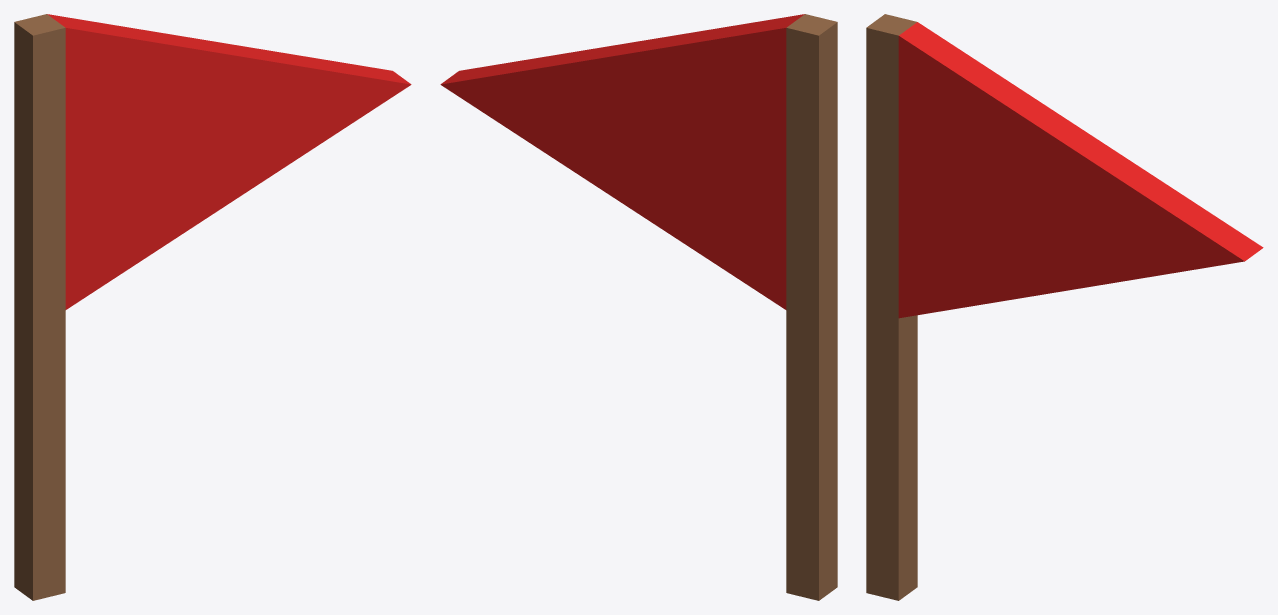
The model's file is click_flag.glb.
The picture shows the model from 3 angles, left to right: view 1: azimuth 30°, elevation 25°; view 2: azimuth 150°, elevation 25°; view 3: azimuth 330°, elevation 25°; orthographic projection.
Visible parts, largest first — view 1: Flag; view 2: Flag; view 3: Flag.
Boxes of the visible parts, left/top/right/bottom form: Flag: left=14, top=14, right=411, bottom=600; Flag: left=440, top=14, right=837, bottom=600; Flag: left=866, top=14, right=1263, bottom=600.
Bounding box in the file's own units: 2.38 × 3.4 × 0.2049.
